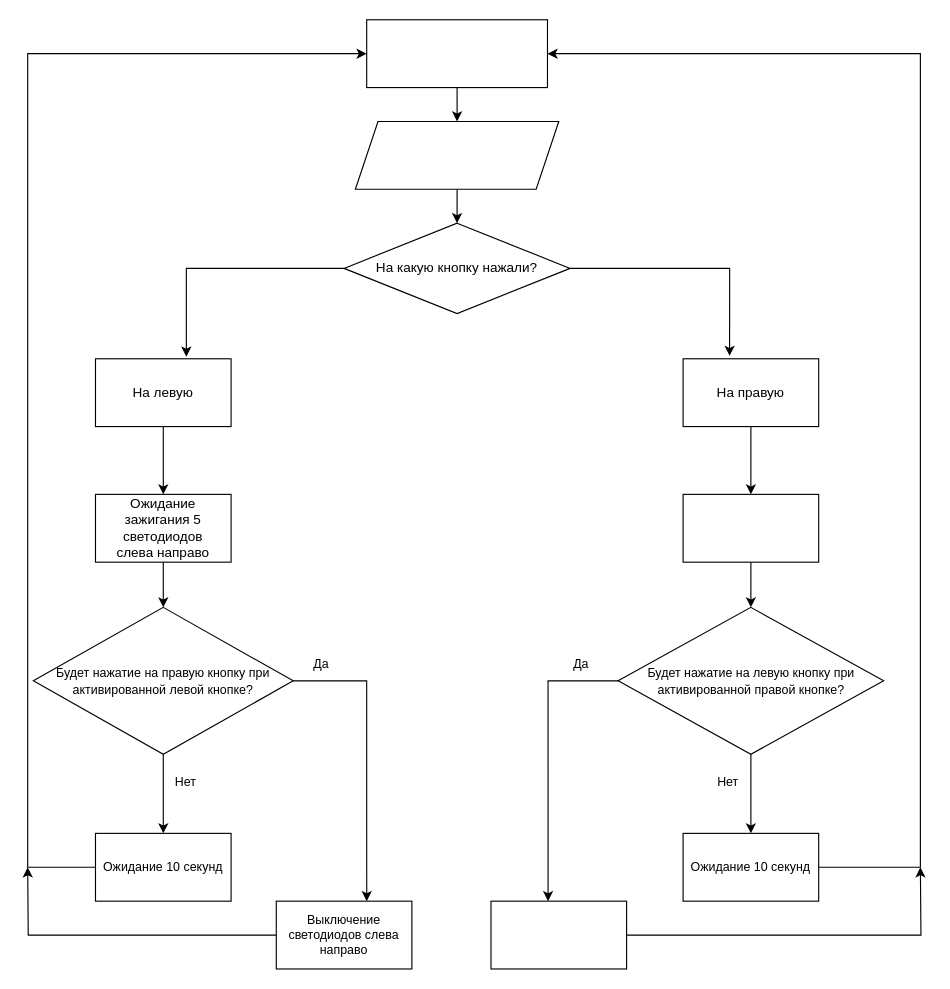
This 950x989 diagram has some shape labels left out. The shapes that lost their labels are listed below. From the top down, each one's centre as x and y in pixels, then its label:
At (456,53): "Выключенное состояние".
At (456,154): "Нажатие на кнопку".
At (750,527): "Ожидание зажигания 5 светодиодов справа налево".
At (558,934): "Выключение светодиодов справа налево".
